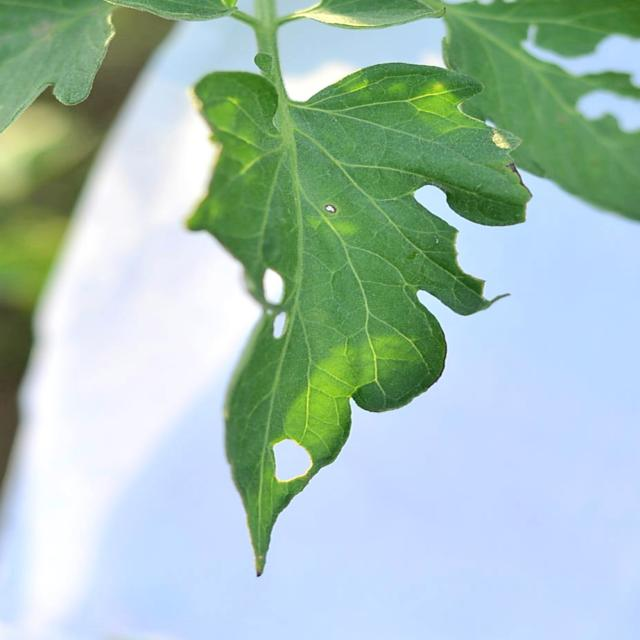infected: (213, 195, 364, 504)
